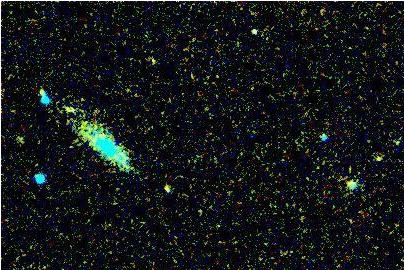star: (57, 93, 87, 123)
